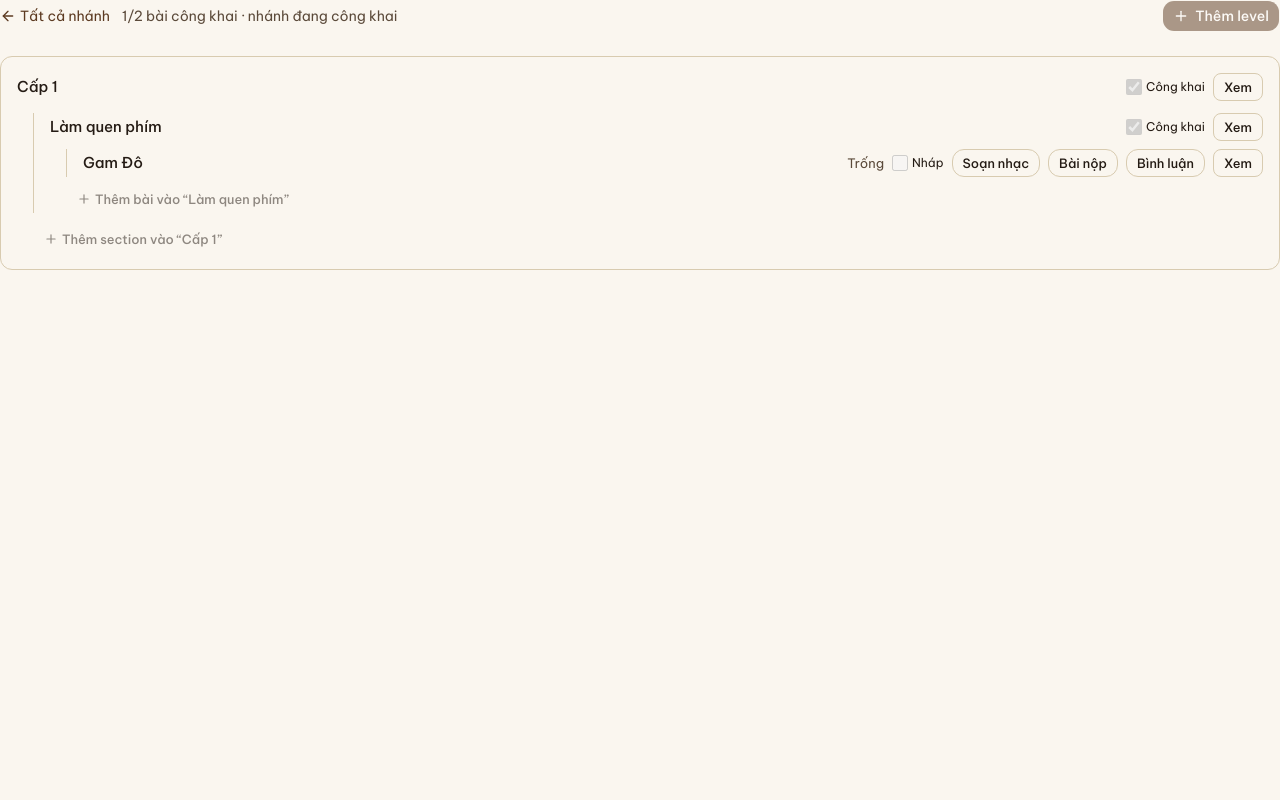
Test: Trình soạn cây một nhánh › EDITOR thấy công tắc xem thử bị khoá
Step 1. Click the button with aria-label "Xem Gam Đô" → (1238, 163), box [1213,149,1263,177]
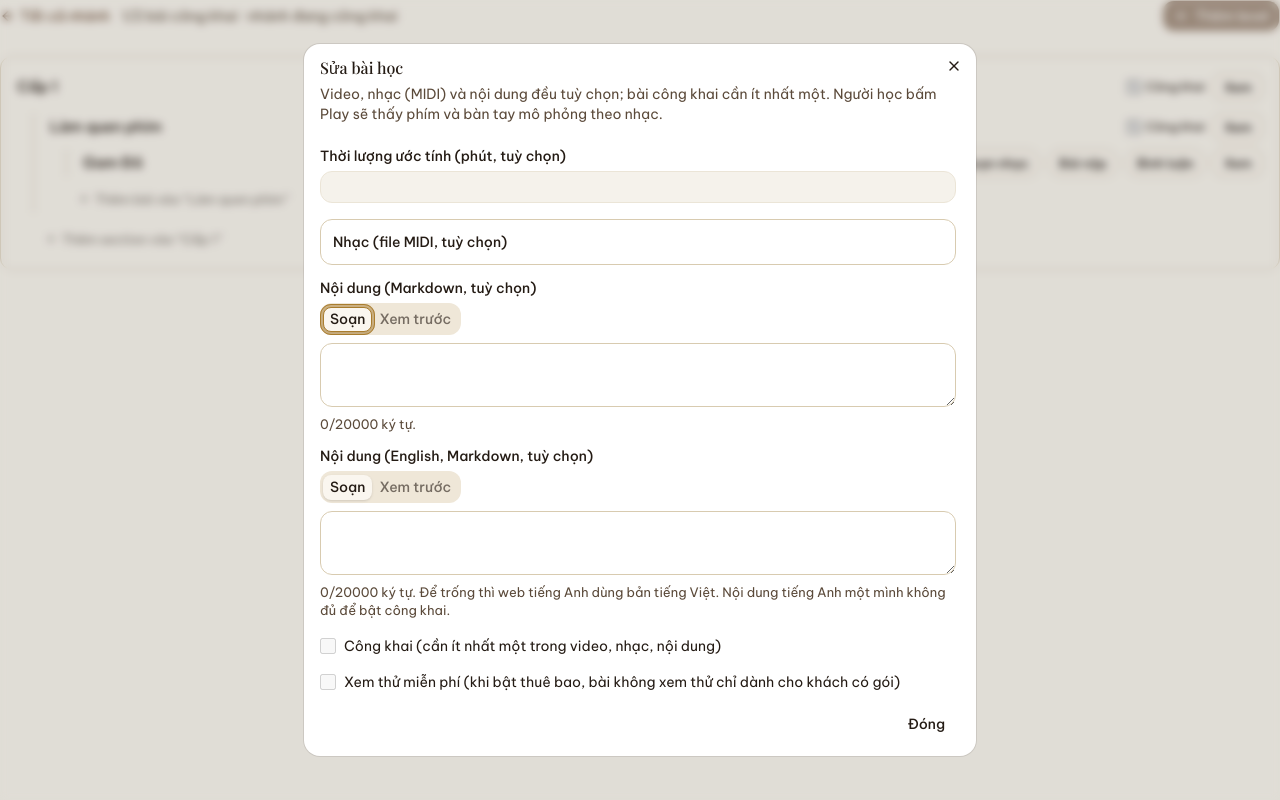
Expected: the checkbox labelled "Xem thử miễn phí" is disabled, [320,674,336,690]
